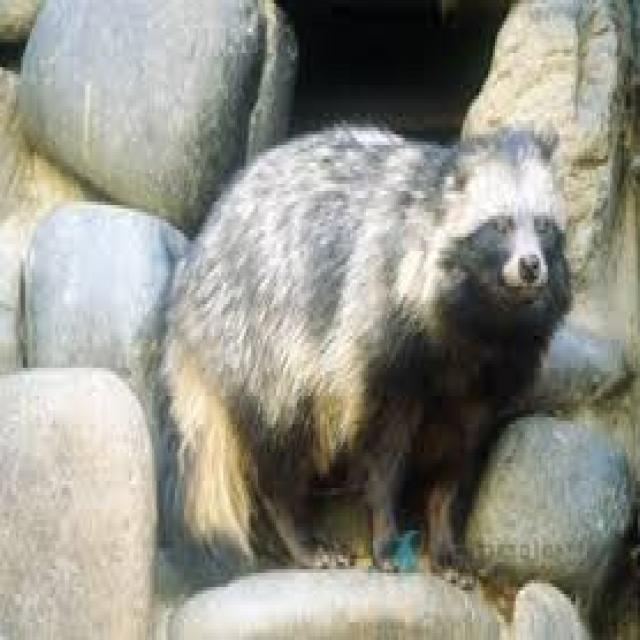racoon: (165, 115, 580, 596)
